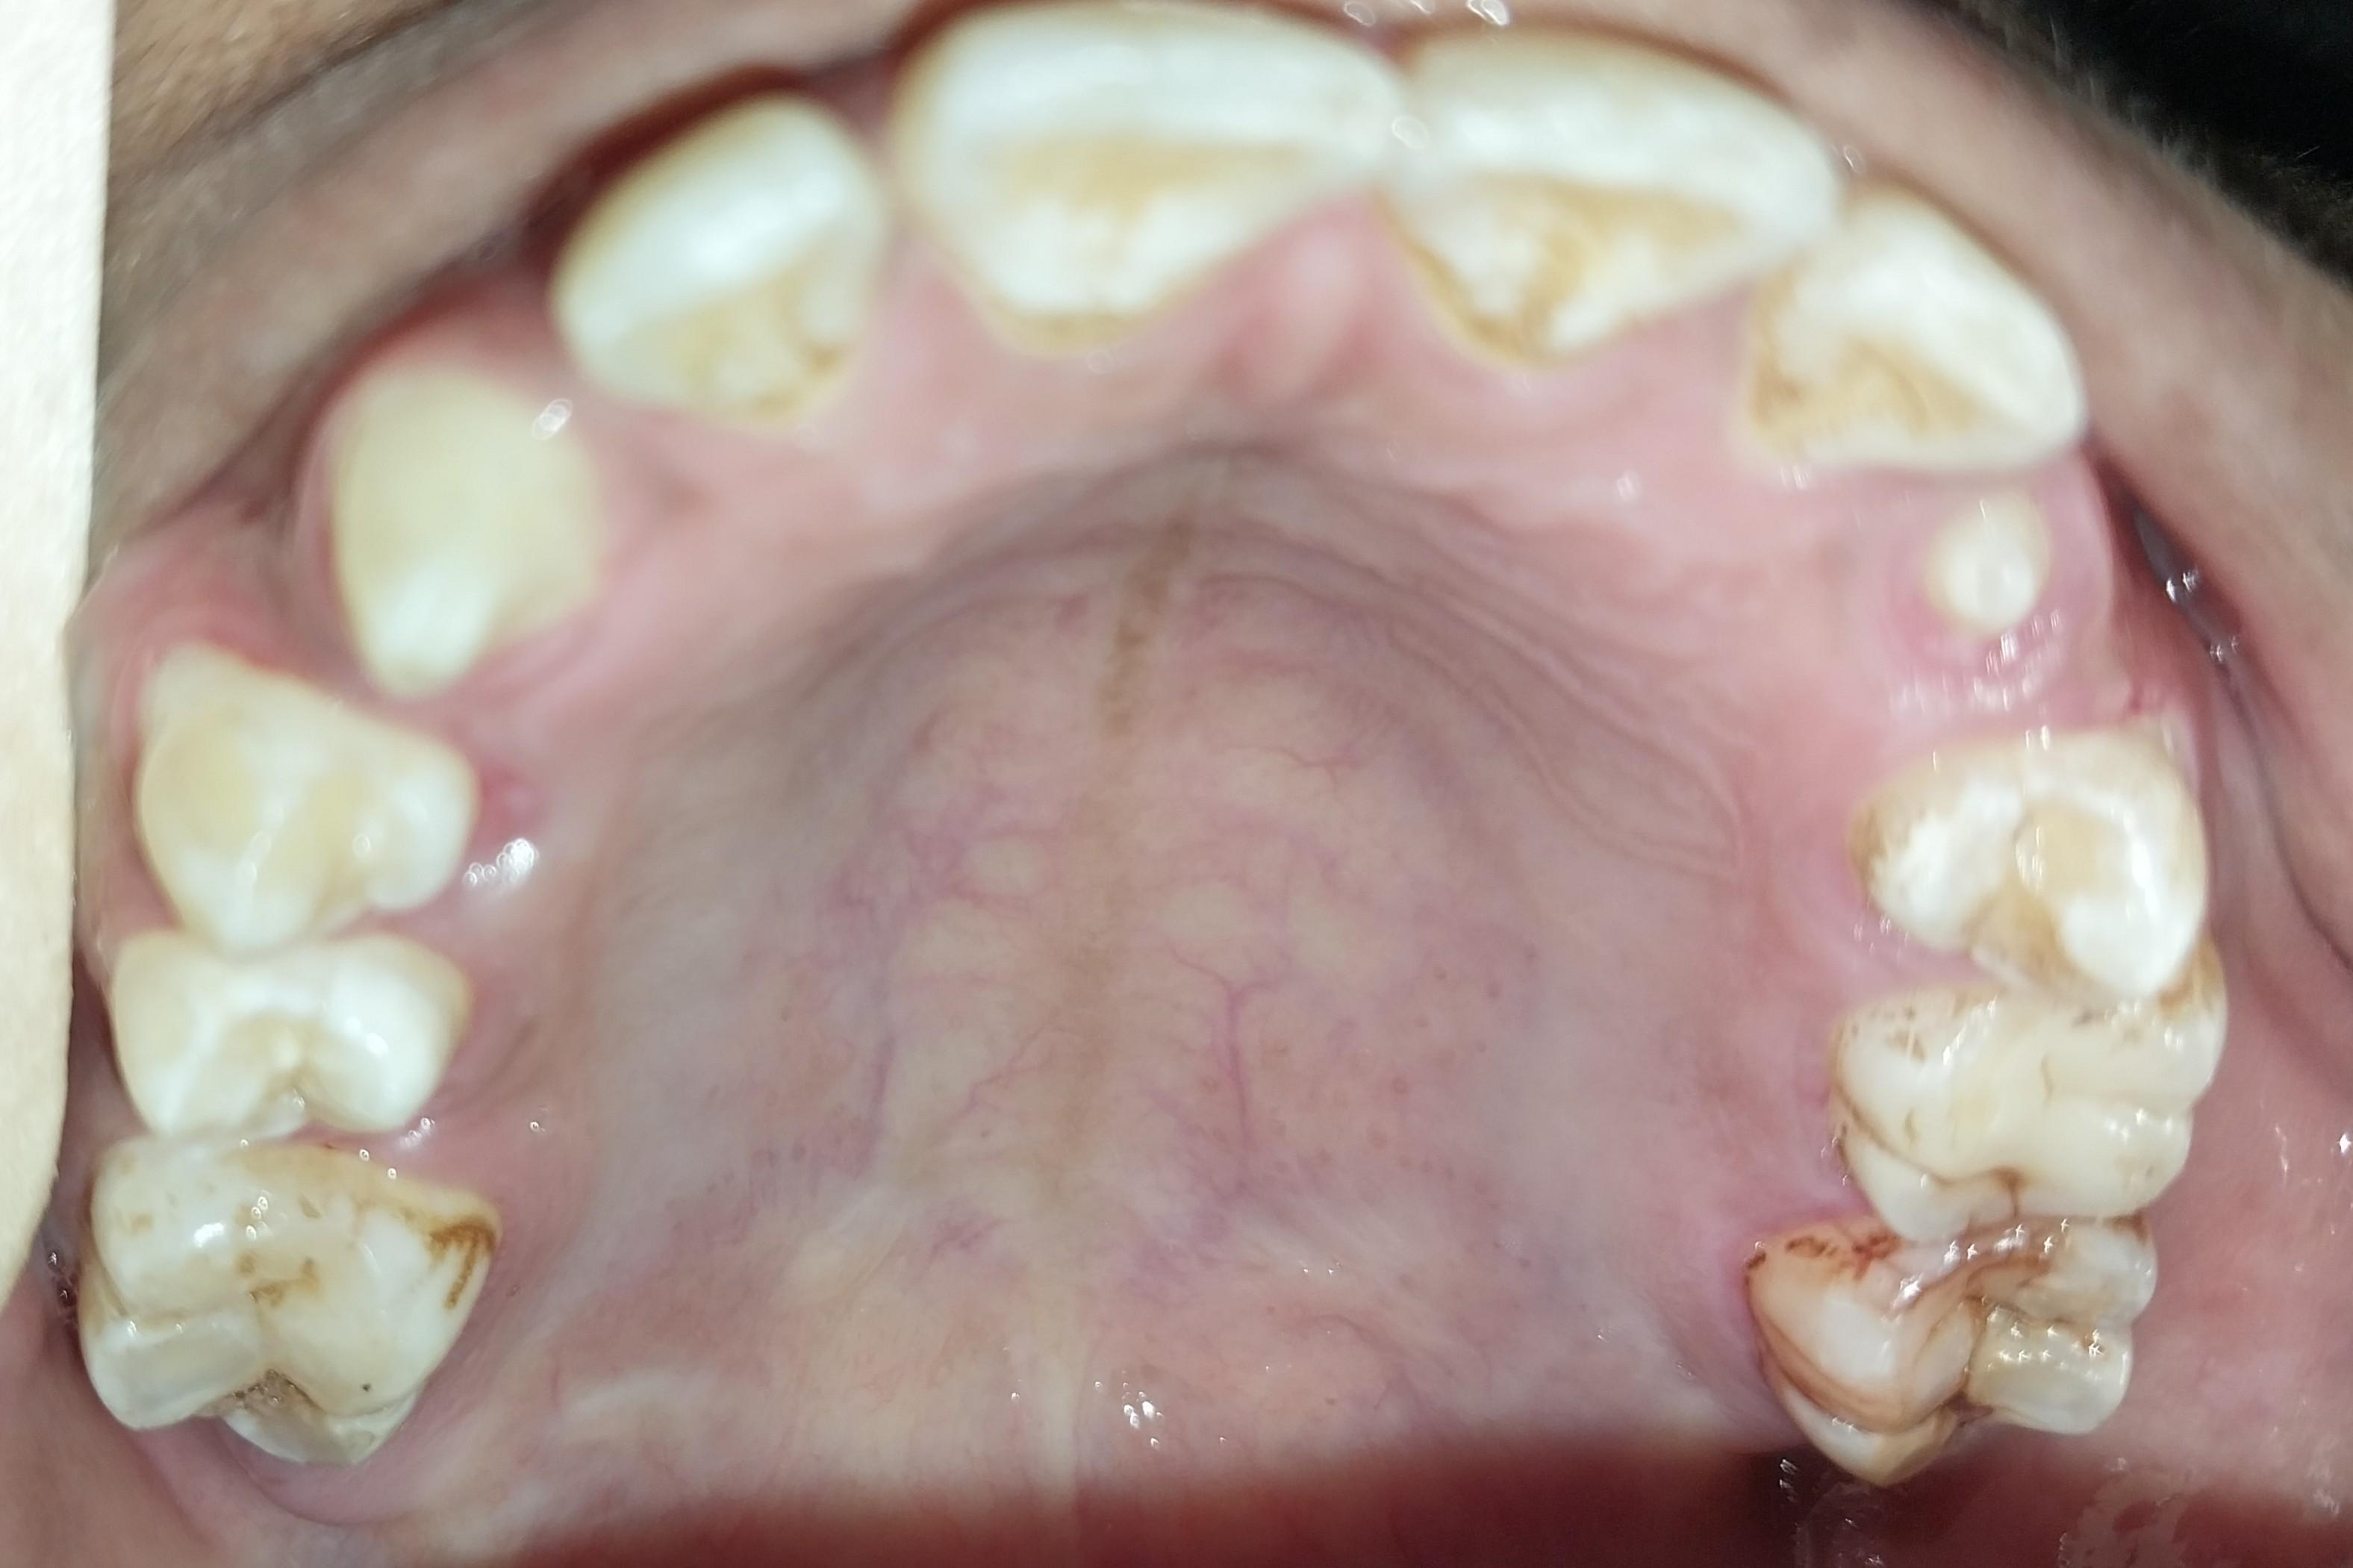D: (1749, 1199, 2163, 1498)
